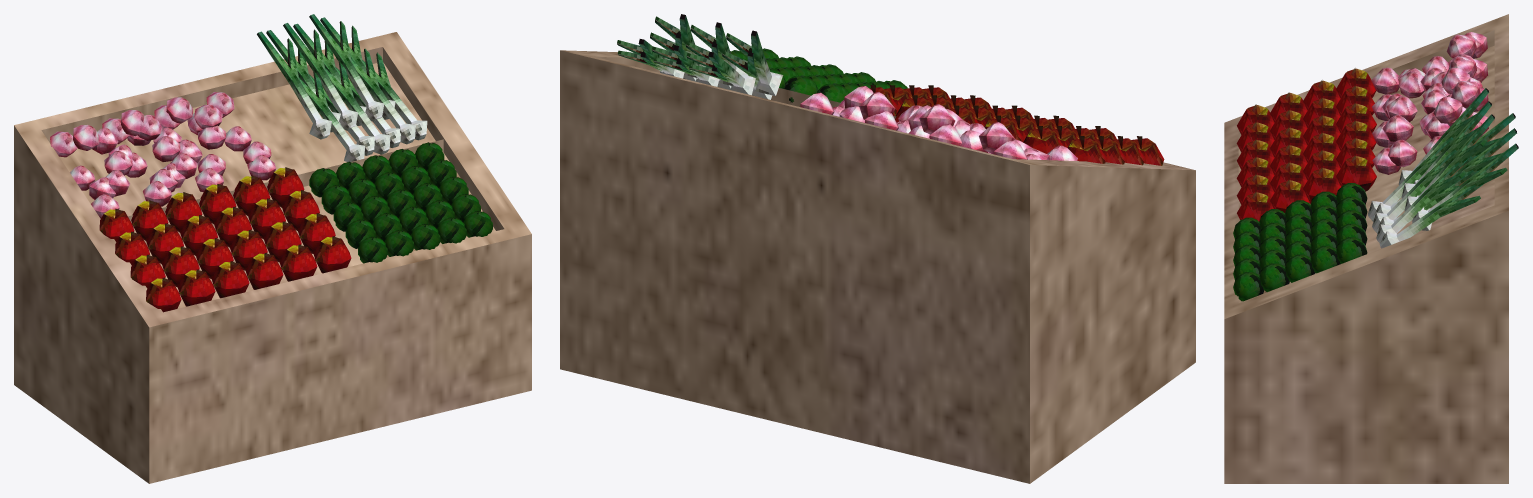
Rendered from Mueble1Ver.fbx.
3 views of the same model, side by side, from view 1: azimuth 30°, elevation 25°; view 2: azimuth 150°, elevation 25°; view 3: azimuth 270°, elevation 25° (orthographic). The views are drawn at different scales.
Visible parts, largest first — view 1: Cube, Cube.002, Cube.023, Cube.003, Cube.010; view 2: Cube, Cube.002, Cube.010, Cube.003, Cube.023; view 3: Cube, Cube.002, Cube.023, Cube.010, Cube.003.
Part boxes in pixels (x1,y1,x2,y2): Cube: (14,32,531,483); Cube.002: (99,167,351,312); Cube.023: (309,142,492,263); Cube.003: (50,92,276,218); Cube.010: (257,14,427,161); Cube: (560,50,1195,483); Cube.002: (869,85,1164,165); Cube.010: (617,14,783,99); Cube.003: (800,86,1077,160); Cube.023: (730,48,907,102); Cube: (1224,14,1508,483); Cube.002: (1236,68,1376,221); Cube.023: (1233,183,1367,301); Cube.010: (1368,88,1518,248); Cube.003: (1371,32,1488,174).
Size of the model in its own units: 128 by 97.63 by 80.95.
2 materials, 2 textured.
